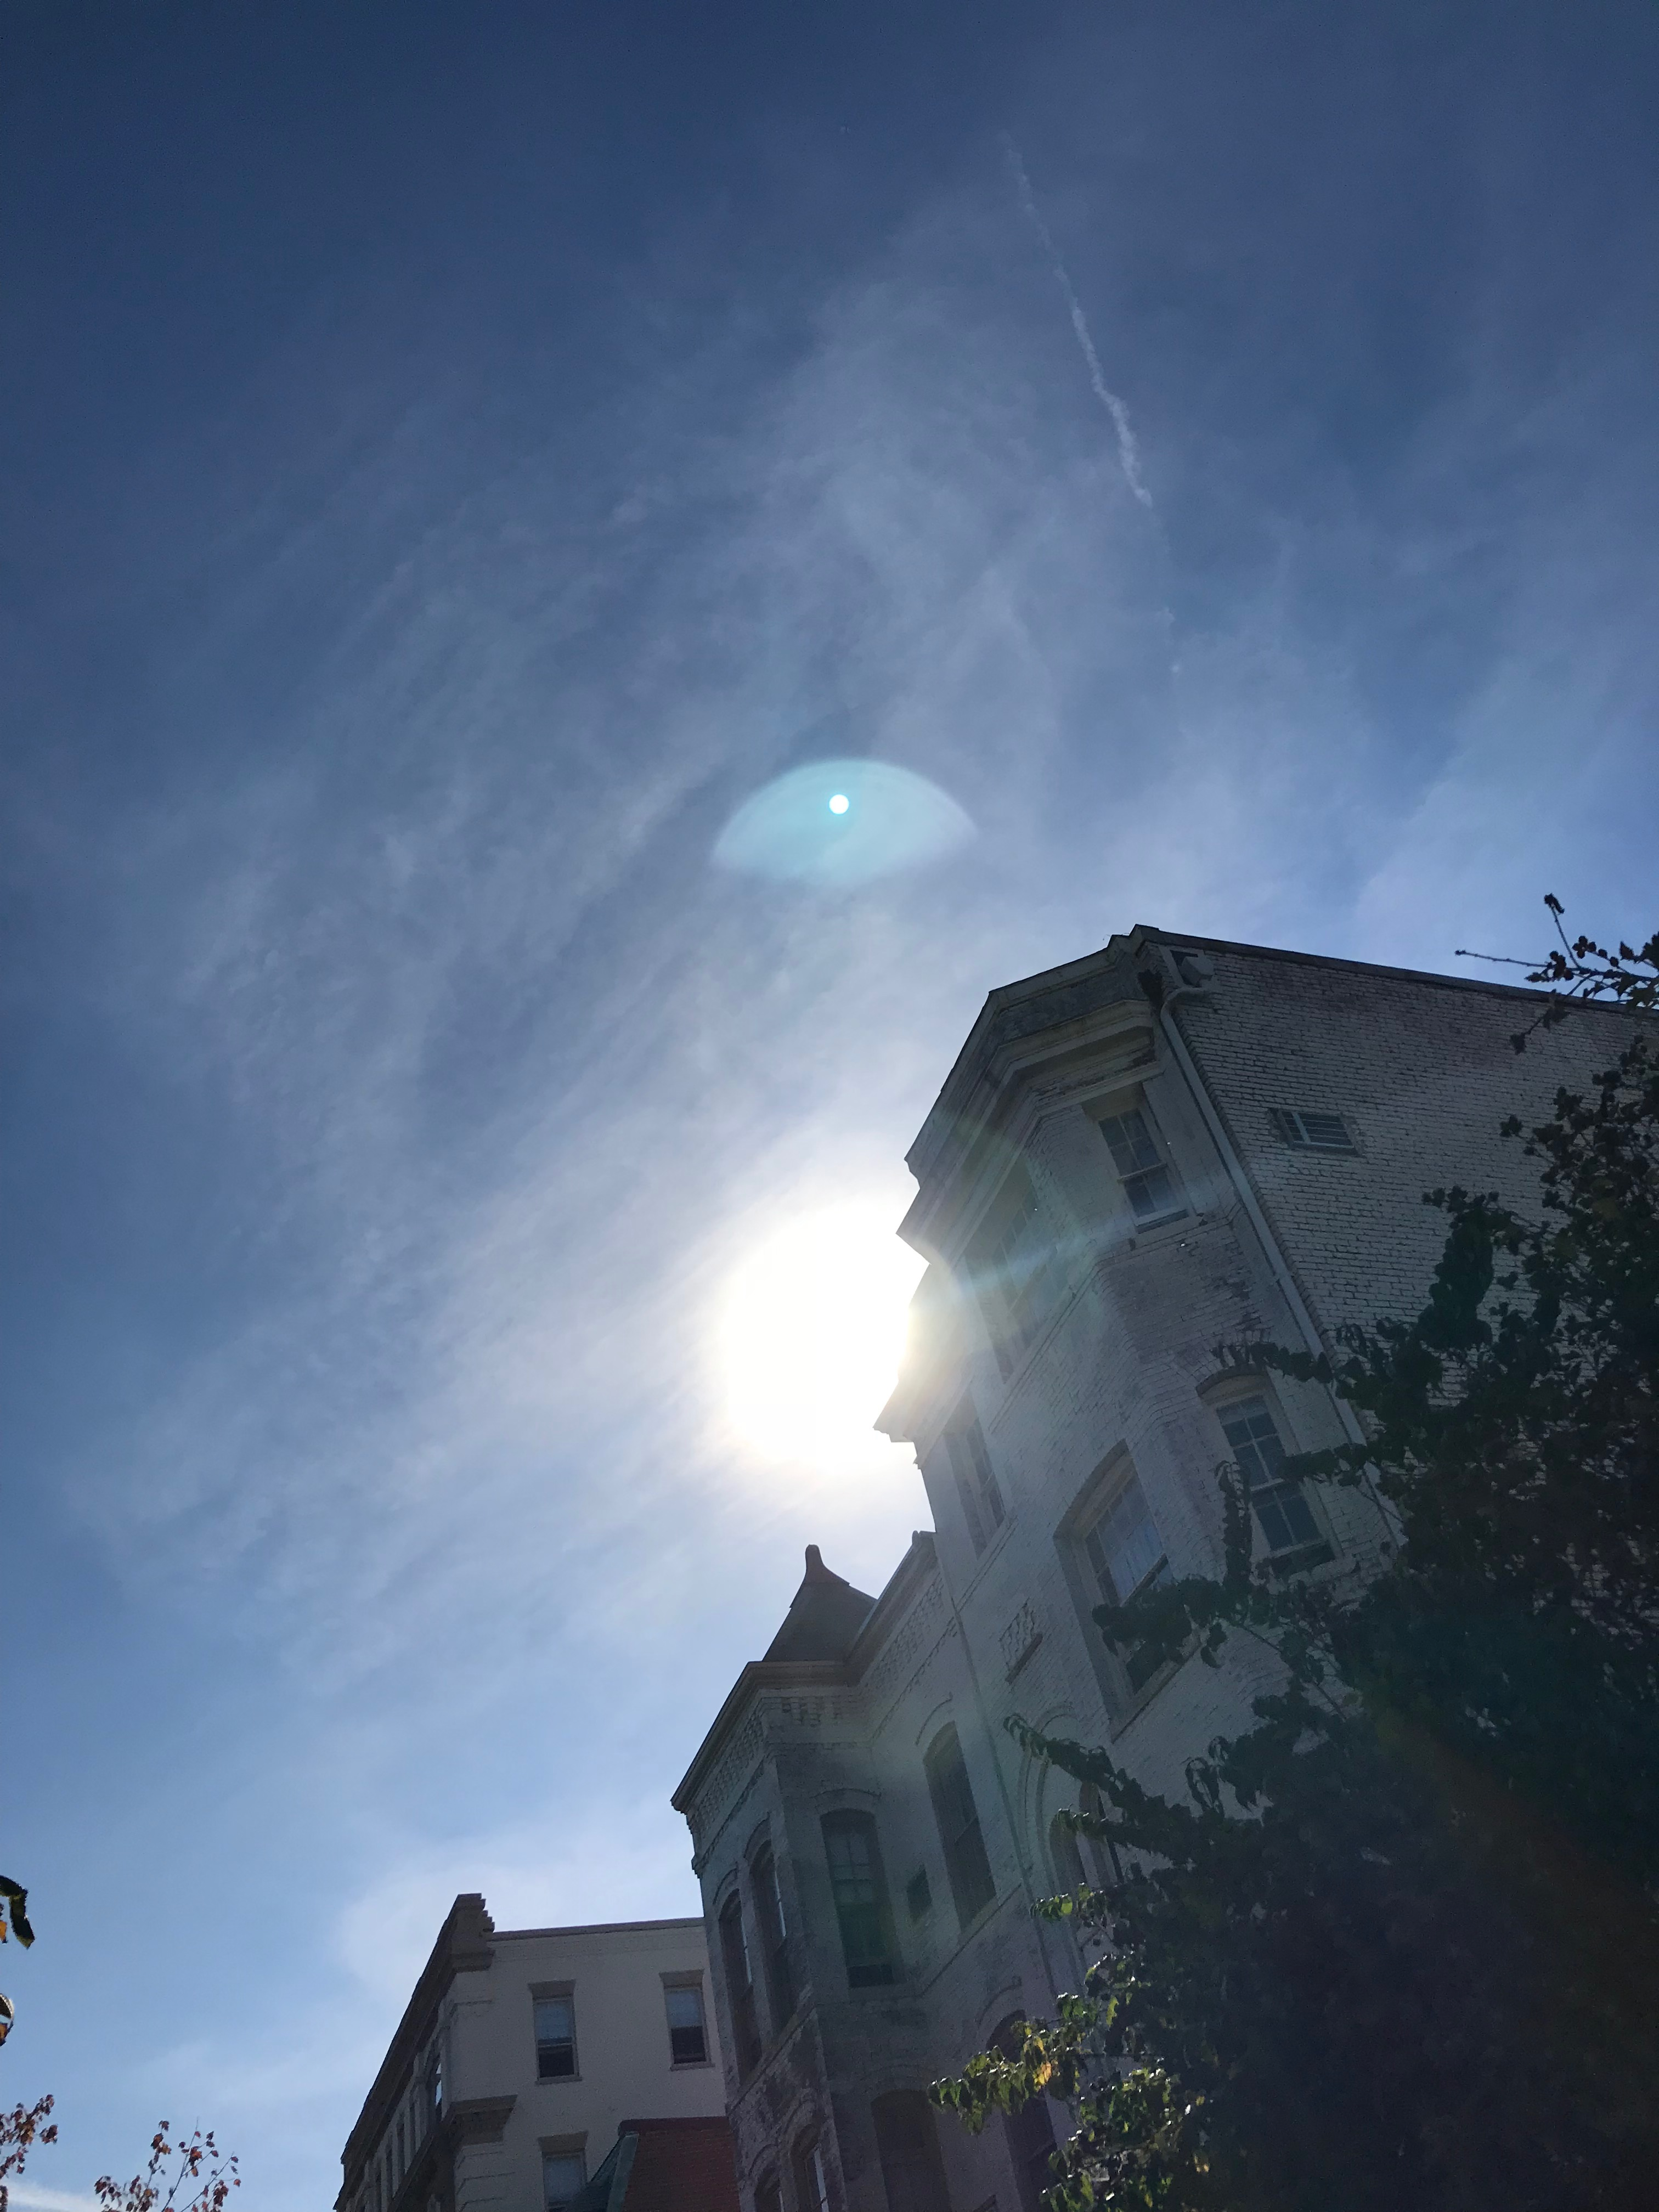flare: (828, 792, 852, 817)
